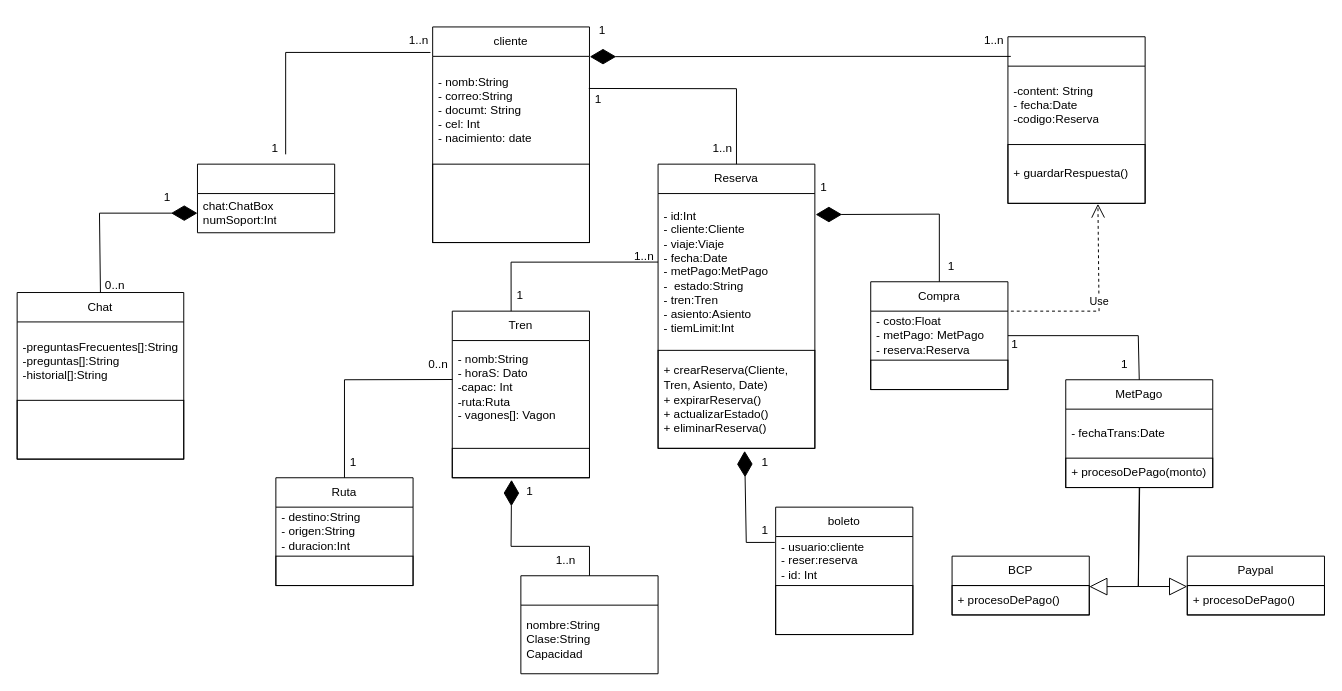
Image size: 1342x691. Some labels were removed from this diagram. Each missing label, with the box of its shape:
+ actDispon (): (451, 447, 589, 478)
+ boleto(usuario,reser,id) + generarDatos(): (775, 585, 913, 635)
+ BuscarRespuestas() + consultaApi() + ProcesraRespuesta(): (16, 399, 184, 459)
+ comprarBoleto(Reserva, MetPago ): (870, 359, 1008, 390)
+cliente(string,string,string,int) +guardarDatos() + buscarDocumt($documt): (432, 163, 589, 243)
registroNoti: (1007, 36, 1145, 203)
Soporte: (196, 163, 335, 233)
vagon: (520, 575, 658, 674)
